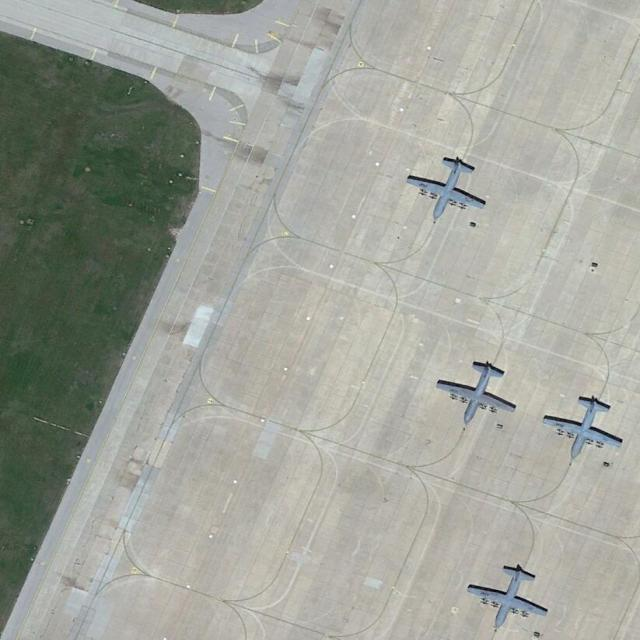fighter jet: (472, 559, 548, 631), (546, 390, 625, 454), (406, 158, 488, 216), (436, 359, 516, 418)
